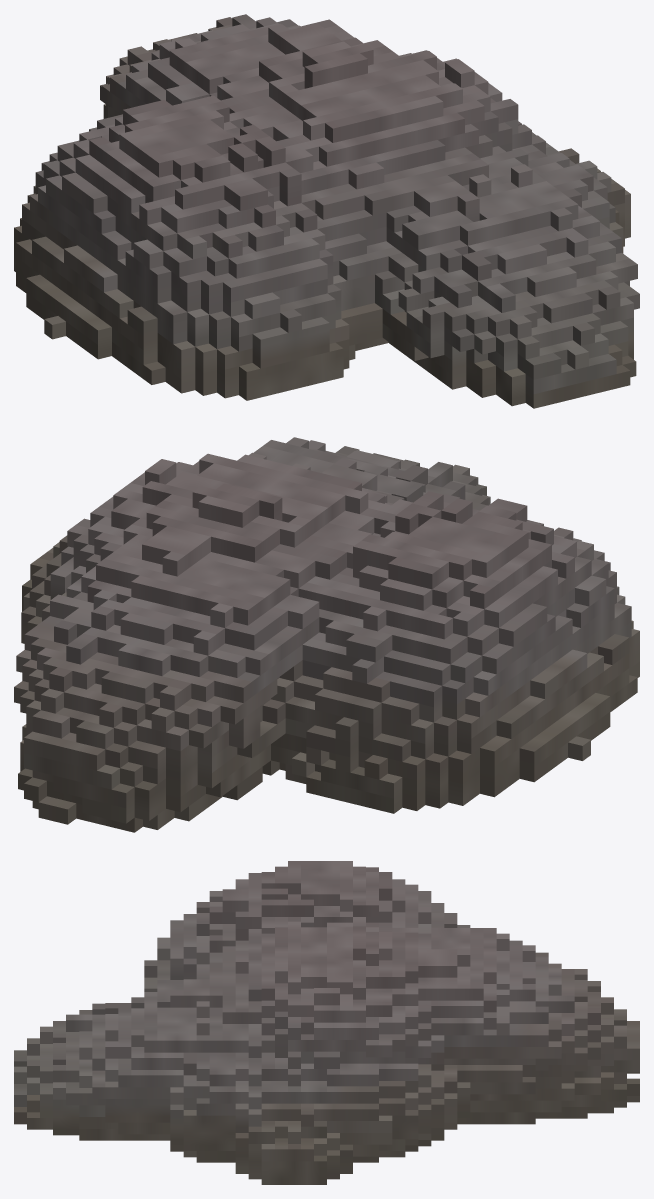
File: Pierre type 2.fbx
3 renders of one model, top to bottom at view 1: azimuth 30°, elevation 25°; view 2: azimuth 150°, elevation 25°; view 3: azimuth 270°, elevation 25°, orthographic. The views are drawn at different scales.
Parts seen in each view (by area): view 1: Matrix; view 2: Matrix; view 3: Matrix.
Part boxes in pixels (bbox=[...]): Matrix: bbox=[14, 14, 639, 408]; Matrix: bbox=[14, 437, 639, 832]; Matrix: bbox=[14, 861, 639, 1184].
Bounding box in the file's own units: 39 × 13 × 48.
